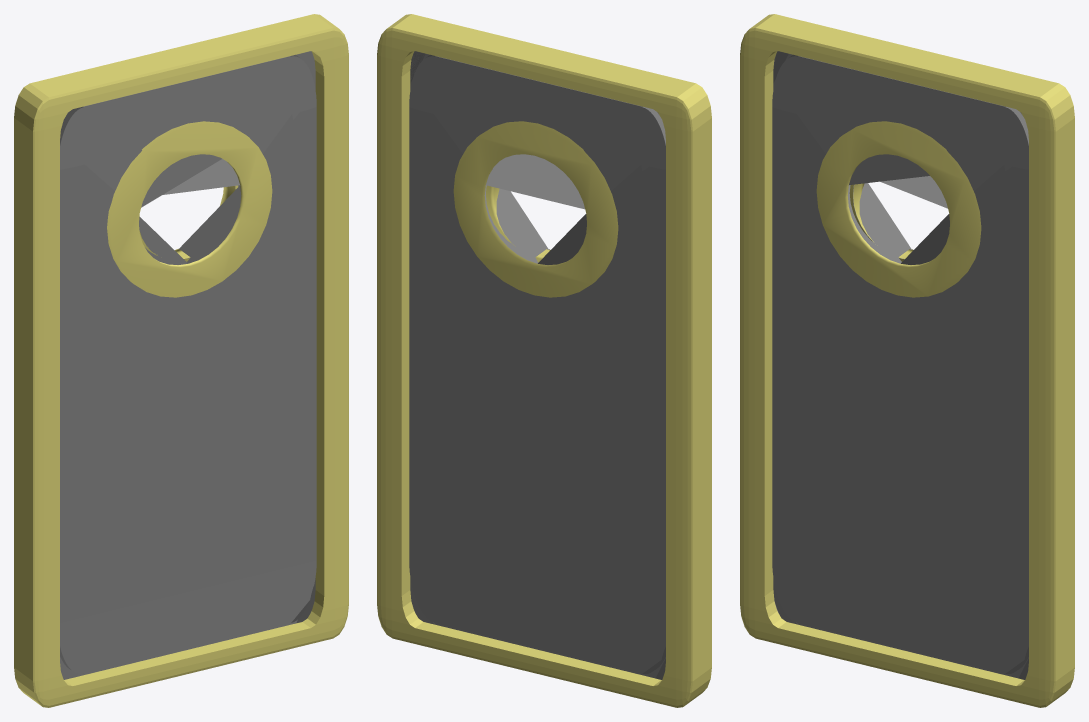
The model's file is Spacedoor.fbx.
3 views of the same model, side by side, from view 1: azimuth 30°, elevation 25°; view 2: azimuth 150°, elevation 25°; view 3: azimuth 330°, elevation 25° (orthographic).
Visible parts, largest first — view 1: Cube.002; view 2: Cube.002; view 3: Cube.002.
Part boxes in pixels (<box>): Cube.002: <box>14,14,348,707</box>; Cube.002: <box>377,14,711,707</box>; Cube.002: <box>740,14,1074,707</box>.
Size of the model in its own units: 115 by 213 by 13.37.
